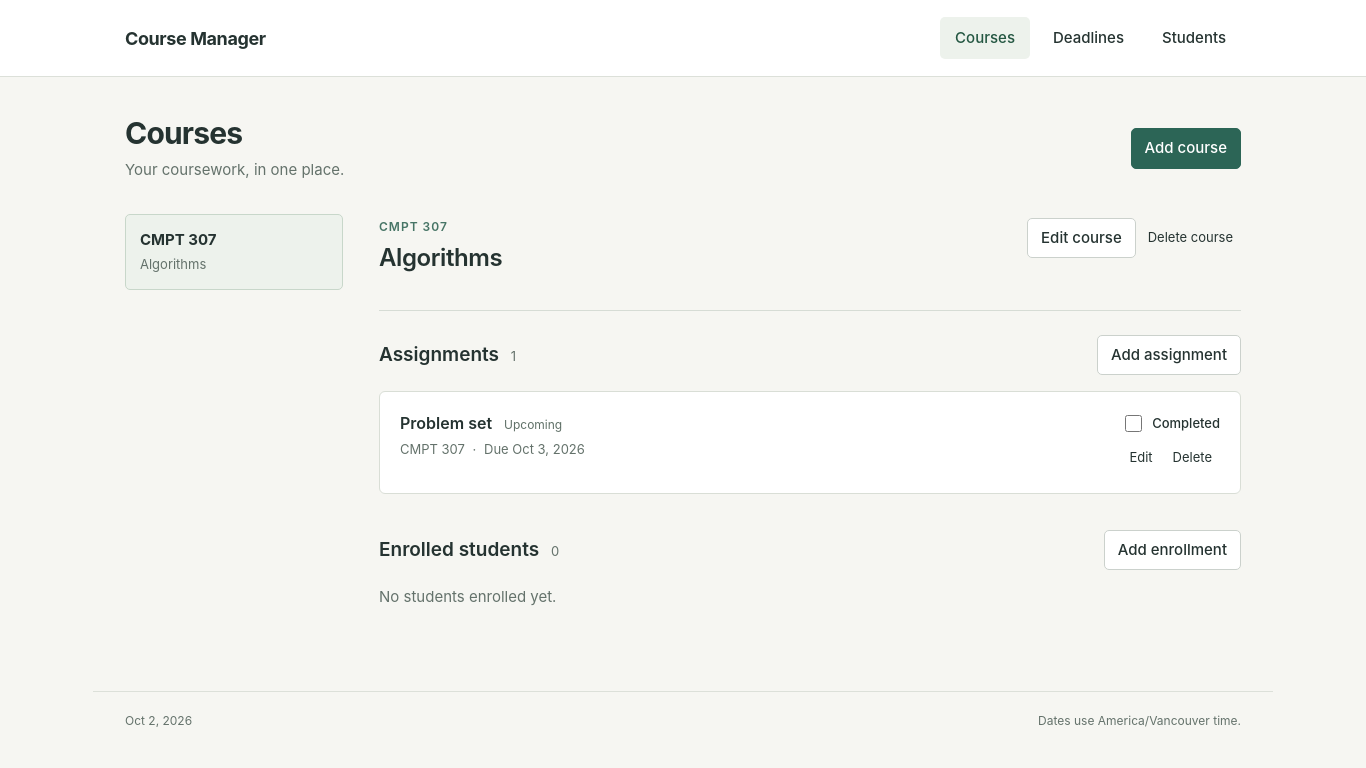
Test: course workspace › restores the checkbox and shows an error if saving completion fails
Expected: the heading "Algorithms" is shown, [379,242,502,274]
Click the checkbox named "Completed: Problem set".
click(1134, 424)  # box [1125,415,1142,432]
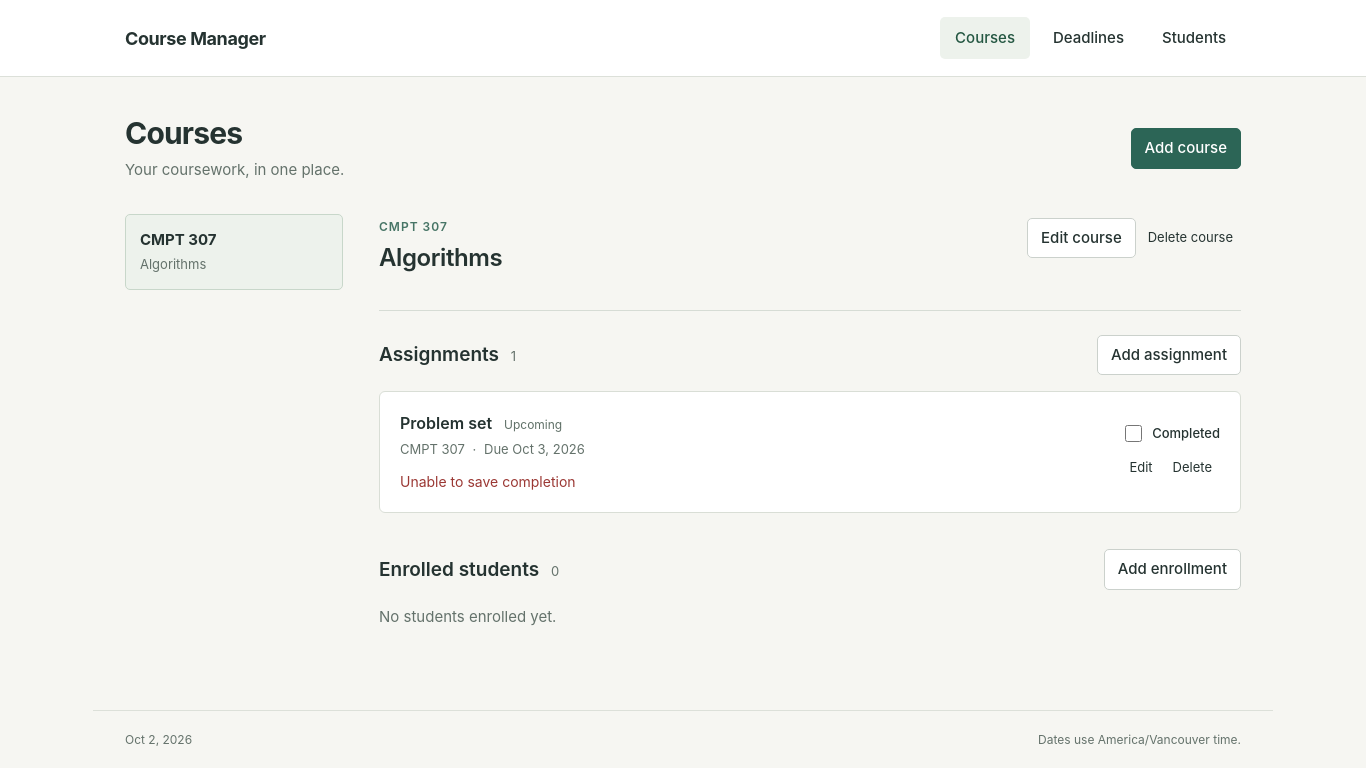
Expected: the checkbox named "Completed: Problem set" is not checked, [1125,425,1142,442]
Result: the message reads "Unable to save completion" at [400,473,576,490]
